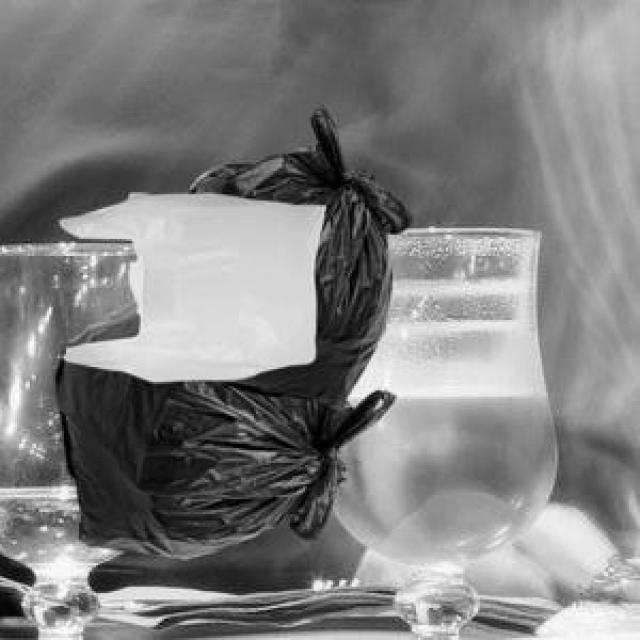miscellaneous trash: (51, 292, 390, 555), (181, 102, 408, 405)
